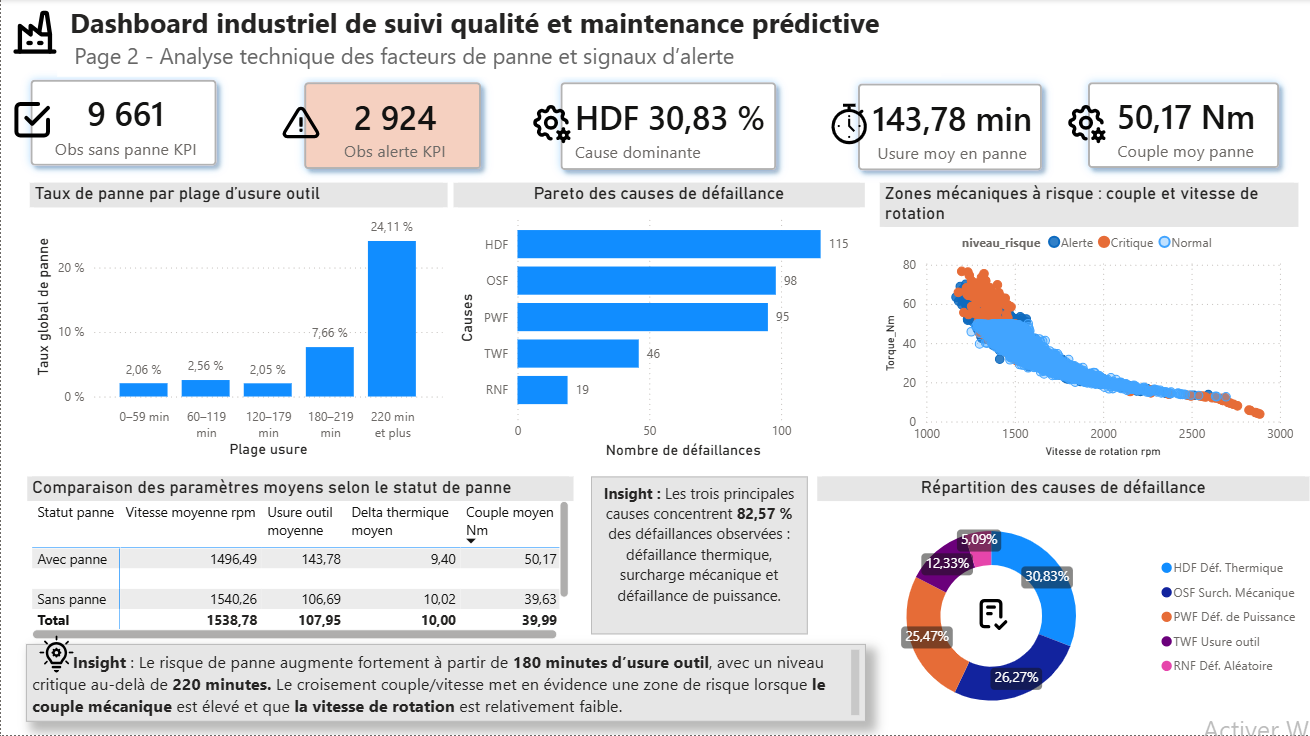

The page's visual inventory and layout, read from the dashboard file:
{"tool":"powerbi","page":{"name":"Page 2 - Analyse technique des facteurs de panne","canvas":[1280,720],"ordinal":1},"visuals":[{"type":"donutChart","title":"Répartition des causes de défaillance","fields":{"Y":["Sum(machine_failures_clean.HDF)","Sum(machine_failures_clean.OSF)","Sum(machine_failures_clean.PWF)","Sum(machine_failures_clean.TWF)","Sum(machine_failures_clean.RNF)"]},"box":[798.5,467,481.8,253.8],"z":0},{"type":"cardVisual","fields":{"Data":["causes_defaillance.Cause dominante KPI"]},"box":[518.7,52,269.9,144.8],"z":1000},{"type":"cardVisual","fields":{"Data":["causes_defaillance.Obs alerte KPI"]},"box":[267.4,52,231.5,143.6],"z":2000},{"type":"cardVisual","fields":{"Data":["causes_defaillance.Obs sans panne KPI"]},"box":[0,50.5,240.3,142.9],"z":3000},{"type":"cardVisual","fields":{"Data":["causes_defaillance.Couple moy panne KPI"]},"box":[1035,52.6,245.3,142.9],"z":4000},{"type":"cardVisual","fields":{"Data":["causes_defaillance.Usure moy panne"]},"box":[809.6,53.2,238.9,143.6],"z":5000},{"type":"clusteredBarChart","title":"Pareto des causes de défaillance","fields":{"Category":["causes_defaillance.Cause_defaillancCause_defaillanc"],"Y":["Sum(causes_defaillance.Total_pannes)"]},"box":[443.2,179.5,402.3,274.8],"z":6000},{"type":"columnChart","title":"Taux de panne par plage d’usure outil","fields":{"Category":["machine_failures_clean.plage_usure"],"Y":["machine_failures_clean.Taux global de panne"]},"box":[27.6,179.2,408.9,274.1],"z":7000},{"type":"scatterChart","title":"Zones mécaniques à risque : couple et vitesse de rotation","fields":{"Y":["machine_failures_clean.Torque_Nm"],"X":["machine_failures_clean.Rotational_speed_rpm"],"Series":["machine_failures_clean.niveau_risque"]},"box":[859.8,179.2,409.7,273.6],"z":8000},{"type":"pivotTable","title":"Comparaison des paramètres moyens selon le statut de panne","fields":{"Values":["Avg(machine_failures_clean.Rotational_speed_rpm)","Avg(machine_failures_clean.Tool_wear_min)","Avg(machine_failures_clean.Temperature_Delta_C)","Avg(machine_failures_clean.Torque_Nm)"],"Rows":["machine_failures_clean.statut_panne"]},"box":[25.9,467,534.8,163.9],"z":9000},{"type":"textbox","box":[25,631.2,821.2,76.2],"z":10000},{"type":"textbox","box":[55,0,865,76.2],"z":11000},{"type":"textbox","box":[576.7,467,211.9,154],"z":12000},{"type":"image","box":[0,7.5,66.2,50],"z":13000},{"type":"image","box":[515,100,46.2,41.2],"z":14000},{"type":"image","box":[271.2,102.5,43.8,38.8],"z":15000},{"type":"image","box":[7.5,93.8,46.2,47.5],"z":16000},{"type":"image","box":[947.5,582.5,45,38.8],"z":17000},{"type":"image","box":[32.5,621.2,42.5,40],"z":18000},{"type":"image","box":[800,97.5,60,48.8],"z":19000},{"type":"image","box":[1038.8,100,46.2,41.2],"z":20000}]}

Visuals, with their boxes in screenshot pixels (x1, y1, x2, y2), scaled from the page's 1280x720 canvas onto the 1310x736 screenshot:
"Répartition des causes de défaillance" donutChart: x1=817, y1=477, x2=1309, y2=735
cardVisual - causes_defaillance.Cause dominante KPI: x1=531, y1=53, x2=807, y2=201
cardVisual - causes_defaillance.Obs alerte KPI: x1=274, y1=53, x2=511, y2=200
cardVisual - causes_defaillance.Obs sans panne KPI: x1=0, y1=52, x2=246, y2=198
cardVisual - causes_defaillance.Couple moy panne KPI: x1=1059, y1=54, x2=1309, y2=200
cardVisual - causes_defaillance.Usure moy panne: x1=829, y1=54, x2=1073, y2=201
"Pareto des causes de défaillance" clusteredBarChart: x1=454, y1=183, x2=865, y2=464
"Taux de panne par plage d’usure outil" columnChart: x1=28, y1=183, x2=447, y2=463
"Zones mécaniques à risque : couple et vitesse de rotation" scatterChart: x1=880, y1=183, x2=1299, y2=463
"Comparaison des paramètres moyens selon le statut de panne" pivotTable: x1=27, y1=477, x2=574, y2=645
textbox: x1=26, y1=645, x2=866, y2=723
textbox: x1=56, y1=0, x2=942, y2=78
textbox: x1=590, y1=477, x2=807, y2=635
image: x1=0, y1=8, x2=68, y2=59
image: x1=527, y1=102, x2=574, y2=144
image: x1=278, y1=105, x2=322, y2=144
image: x1=8, y1=96, x2=55, y2=144
image: x1=970, y1=595, x2=1016, y2=635
image: x1=33, y1=635, x2=77, y2=676
image: x1=819, y1=100, x2=880, y2=150
image: x1=1063, y1=102, x2=1110, y2=144
